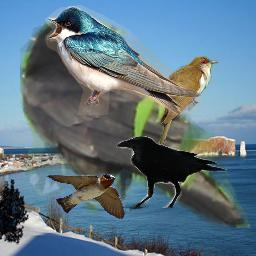Crow: (20, 20, 250, 228), (116, 136, 228, 211)
Cuckoo: (156, 55, 218, 160)
Swallow: (45, 5, 202, 115), (46, 174, 125, 219)
